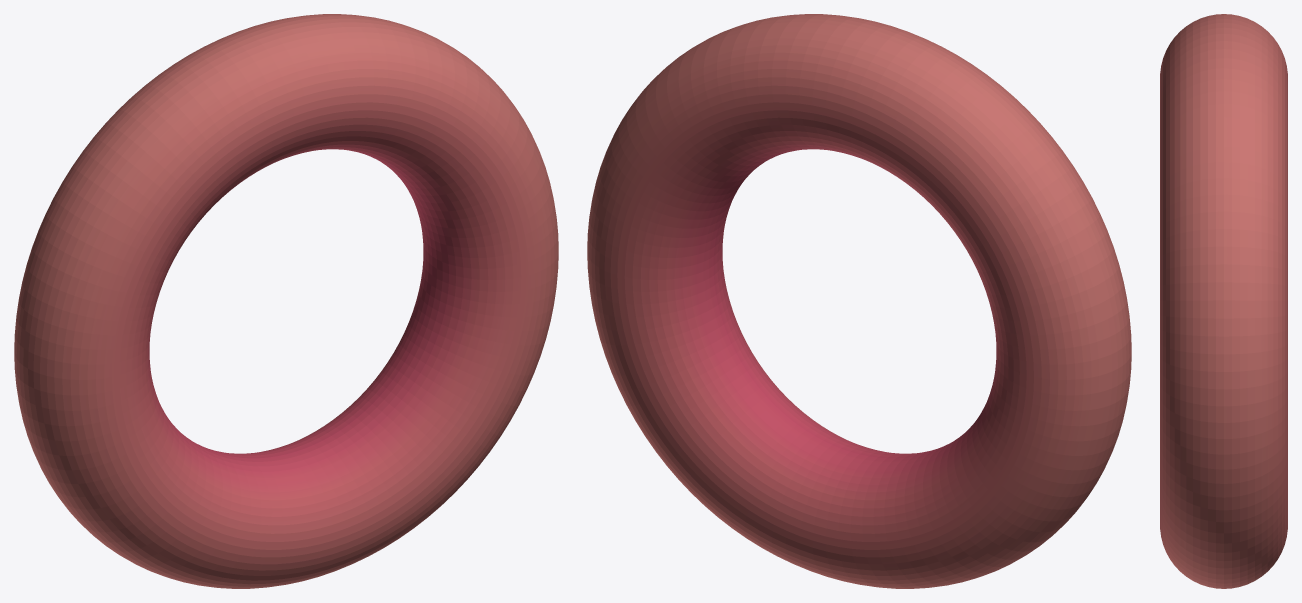
3 views of the same model, side by side, from view 1: azimuth 30°, elevation 25°; view 2: azimuth 150°, elevation 25°; view 3: azimuth 270°, elevation 25° (orthographic). The views are drawn at different scales.
Visible parts, largest first — view 1: world; view 2: world; view 3: world.
Part boxes in pixels (x1=…): world: x1=14, y1=14, x2=558, y2=588; world: x1=587, y1=14, x2=1131, y2=588; world: x1=1160, y1=14, x2=1287, y2=588.
Bounding box in the file's own units: 31.73 × 31.73 × 7.05.
